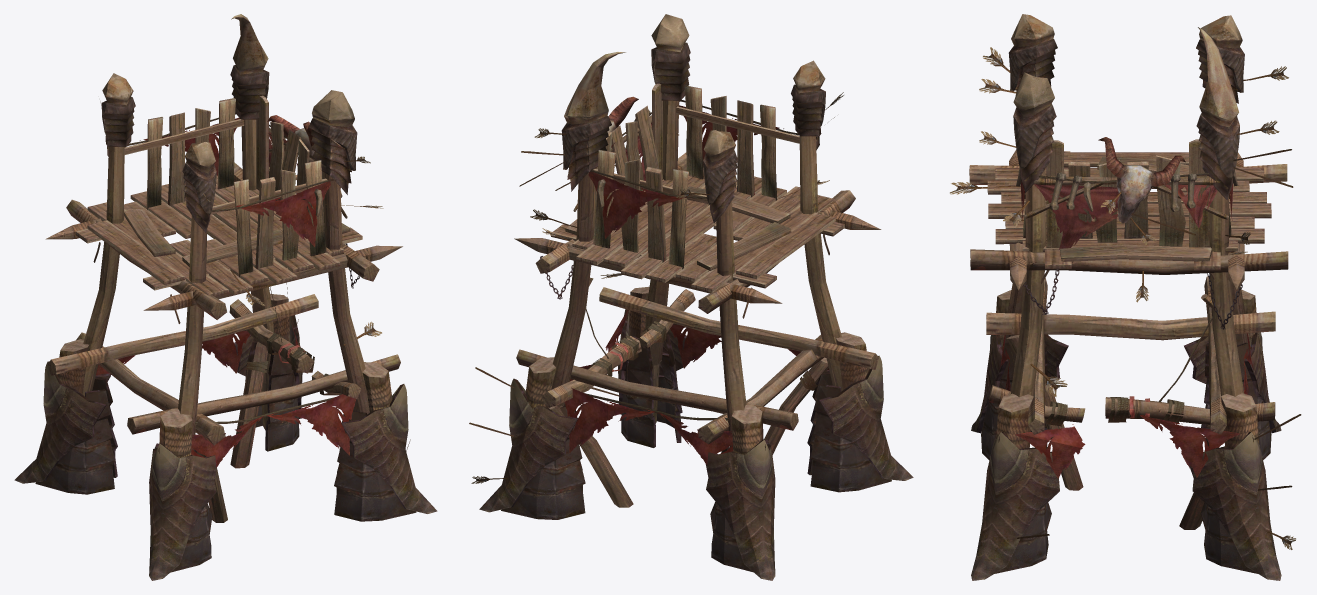
File: bg_lut_castlebole_guardtower01b_sm_artree.FBX
3 views of the same model, side by side, from view 1: azimuth 30°, elevation 25°; view 2: azimuth 150°, elevation 25°; view 3: azimuth 270°, elevation 25° (orthographic). The views are drawn at different scales.
Visible parts, largest first — view 1: bg_lut_castlebole_guardtower01b_sm_artree; view 2: bg_lut_castlebole_guardtower01b_sm_artree; view 3: bg_lut_castlebole_guardtower01b_sm_artree.
Boxes of the visible parts, x1,y1,x2,y2 form: bg_lut_castlebole_guardtower01b_sm_artree: (14, 14, 437, 580); bg_lut_castlebole_guardtower01b_sm_artree: (469, 14, 913, 580); bg_lut_castlebole_guardtower01b_sm_artree: (950, 14, 1301, 580).
Bounding box in the file's own units: 306 × 443 × 291.
